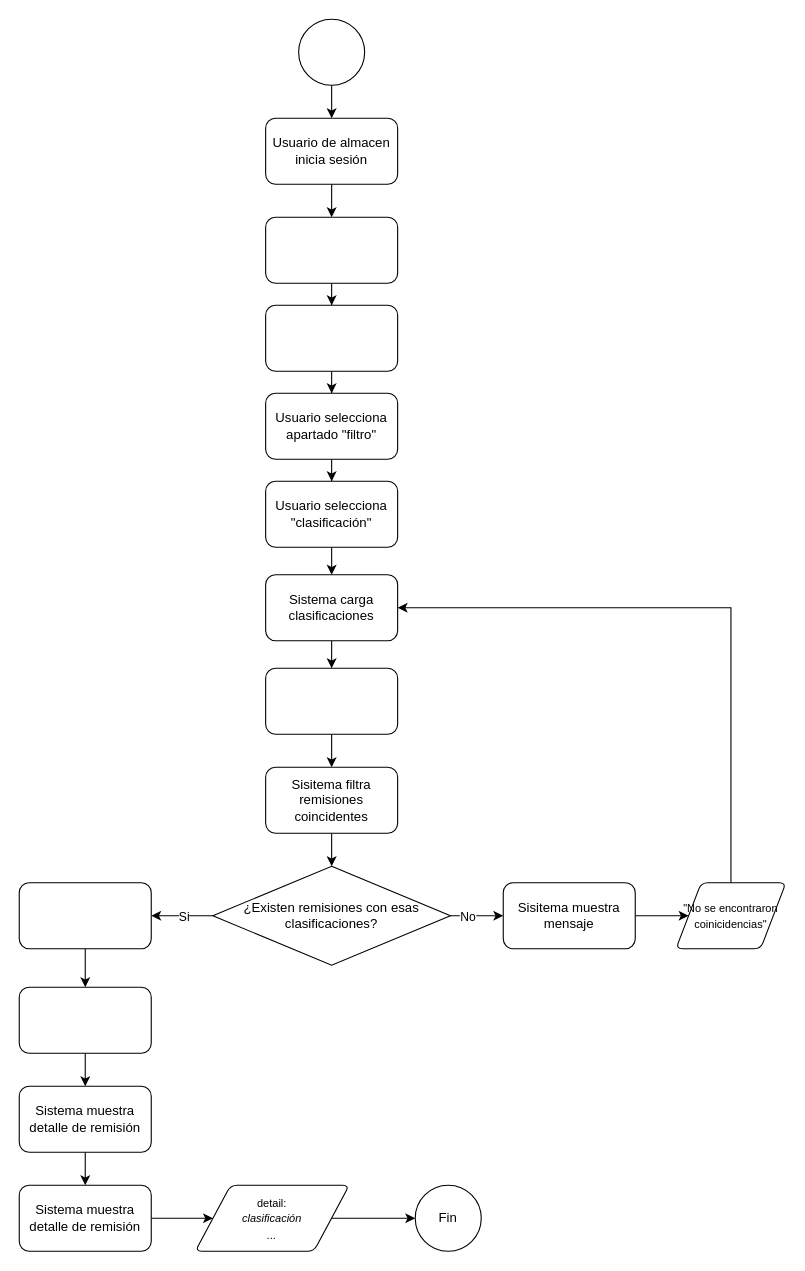
The diagram is 805 pixels wide and 1271 high, and some of its shapes have lost their labels. Here are the shapes that lost their labels. From the top down, the centre of each, then its label:
the point at 331,51: Inicio
the point at 331,249: Usuario accede a apartado "remisión"
the point at 331,337: Sistema carga todas las remisiones
the point at 331,700: Usuario selecciona clasificaciones
the point at 84,915: Sisitema muestra remisiones coincidentes
the point at 84,1019: Usuario selecciona remisión
